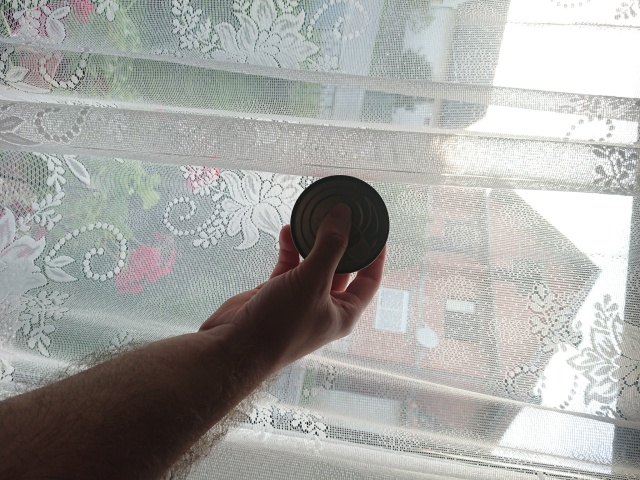Podravka Luncheon Meat 150g: (288, 171, 393, 276)
